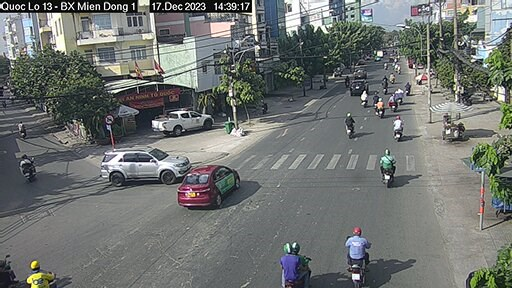car: (98, 146, 193, 182), (177, 164, 240, 209), (153, 109, 214, 134), (348, 80, 372, 96)
motorbike: (334, 230, 371, 283), (280, 245, 317, 286), (373, 150, 404, 190), (19, 153, 38, 182), (343, 113, 363, 140), (391, 114, 406, 137), (375, 98, 386, 116)
